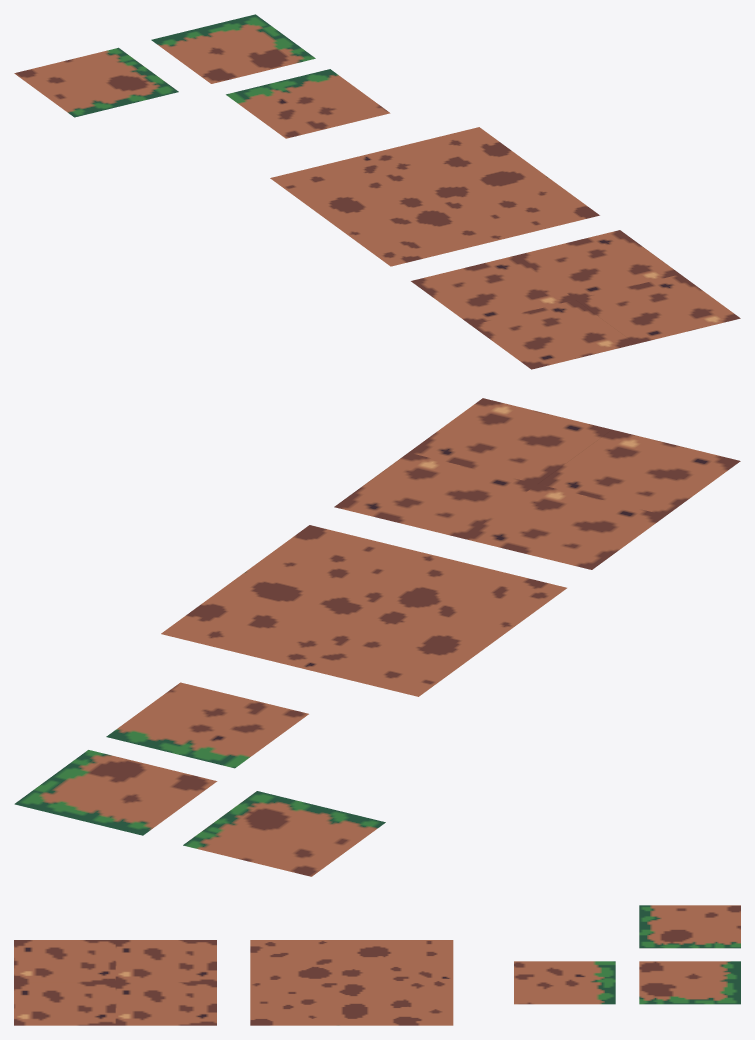
The model's file is ChaoTeraTiles.fbx.
3 views of the same model, one above another, from view 1: azimuth 30°, elevation 25°; view 2: azimuth 150°, elevation 25°; view 3: azimuth 270°, elevation 25° (orthographic). The views are drawn at different scales.
Visible parts, largest first — view 1: Centro1, Centro1.001, Quina2, Quina, Lateral; view 2: Centro1.001, Centro1, Quina2, Lateral, Quina; view 3: Centro1, Centro1.001, Quina, Lateral, Quina2.
Part boxes in pixels (<box>): Centro1: <box>270,127,599,266</box>; Centro1.001: <box>411,230,740,369</box>; Quina2: <box>14,47,178,117</box>; Quina: <box>151,14,315,83</box>; Lateral: <box>226,69,390,138</box>; Centro1.001: <box>334,398,740,569</box>; Centro1: <box>161,525,566,696</box>; Quina2: <box>183,791,385,876</box>; Lateral: <box>106,682,308,768</box>; Quina: <box>14,750,217,835</box>; Centro1: <box>250,940,453,1025</box>; Centro1.001: <box>14,940,216,1025</box>; Quina: <box>639,961,740,1004</box>; Lateral: <box>514,961,615,1004</box>; Quina2: <box>639,905,740,948</box>.
Bounding box in the file's own units: 561 × 1432 × 0.
